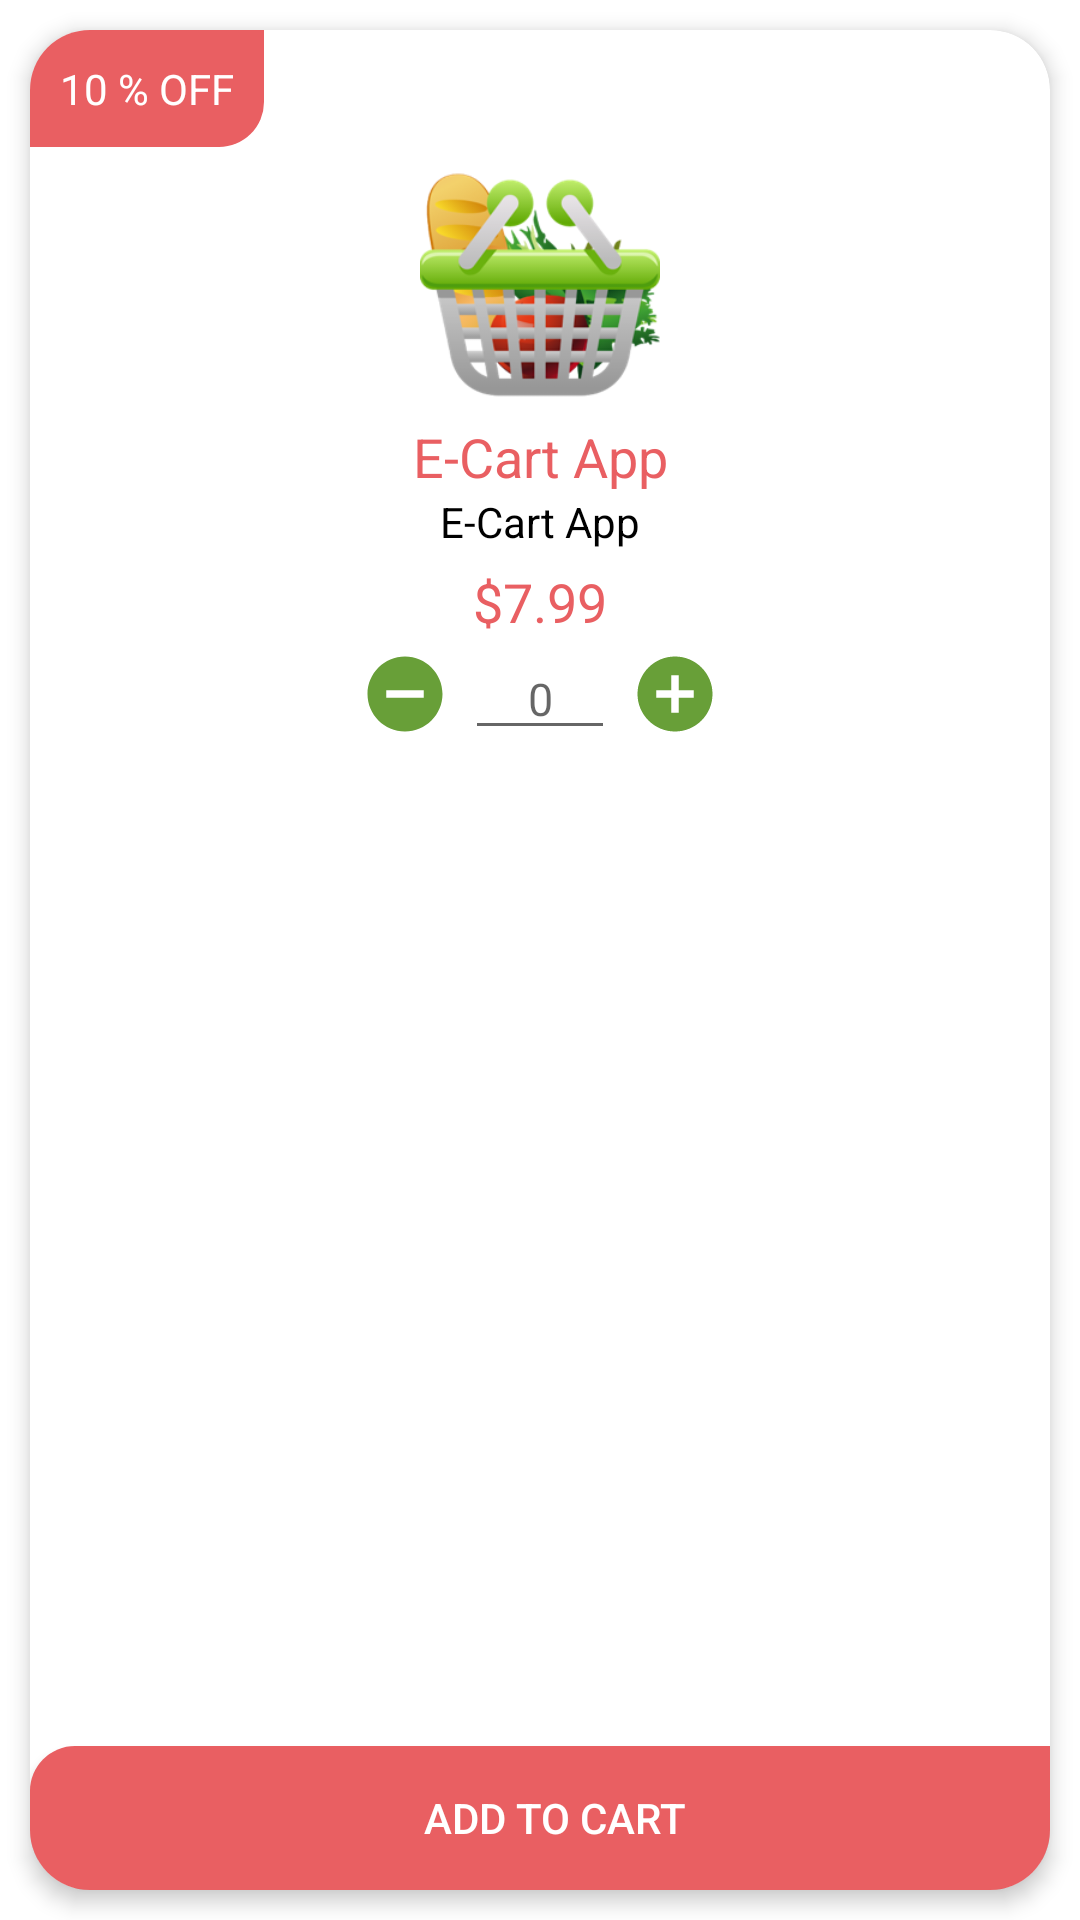

Locate icon controls on the screen. Image size 1080 x 1920, boxes as (left=x1, top=y1, right=x2, bottom=y2).
add circle: (left=637, top=656, right=713, bottom=732)
minus circle: (left=367, top=656, right=443, bottom=732)
